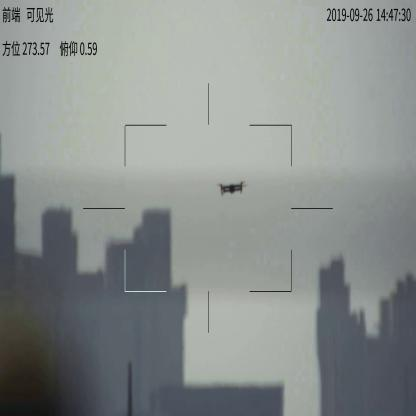uav: (215, 180, 249, 196)
